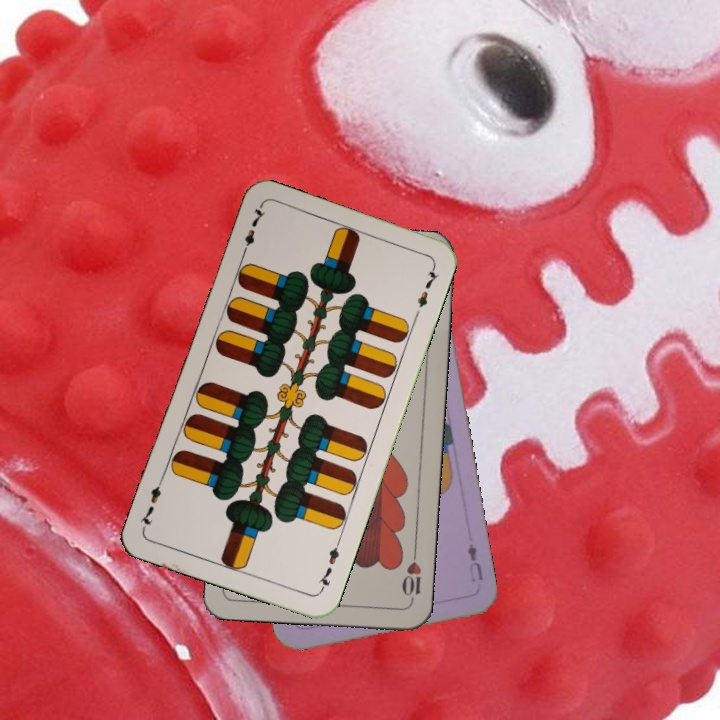E7: (237, 203, 268, 260), (313, 537, 343, 594)
EU: (463, 539, 485, 585)
H10: (398, 546, 424, 605)
